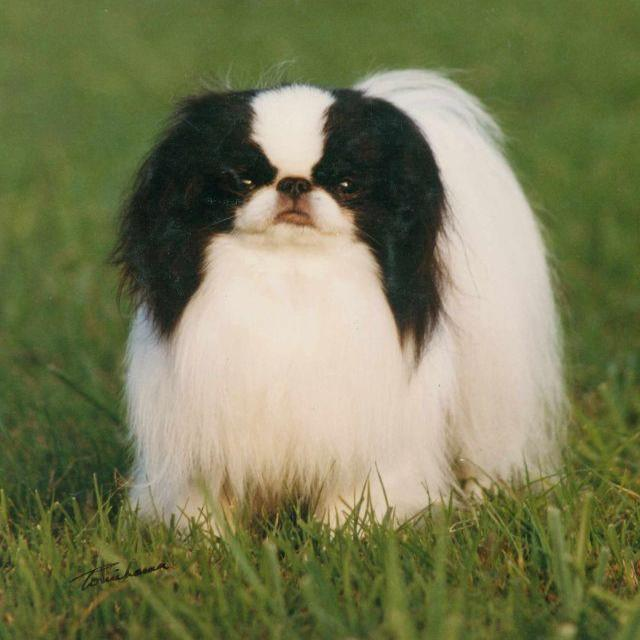husky: (103, 69, 563, 522)
